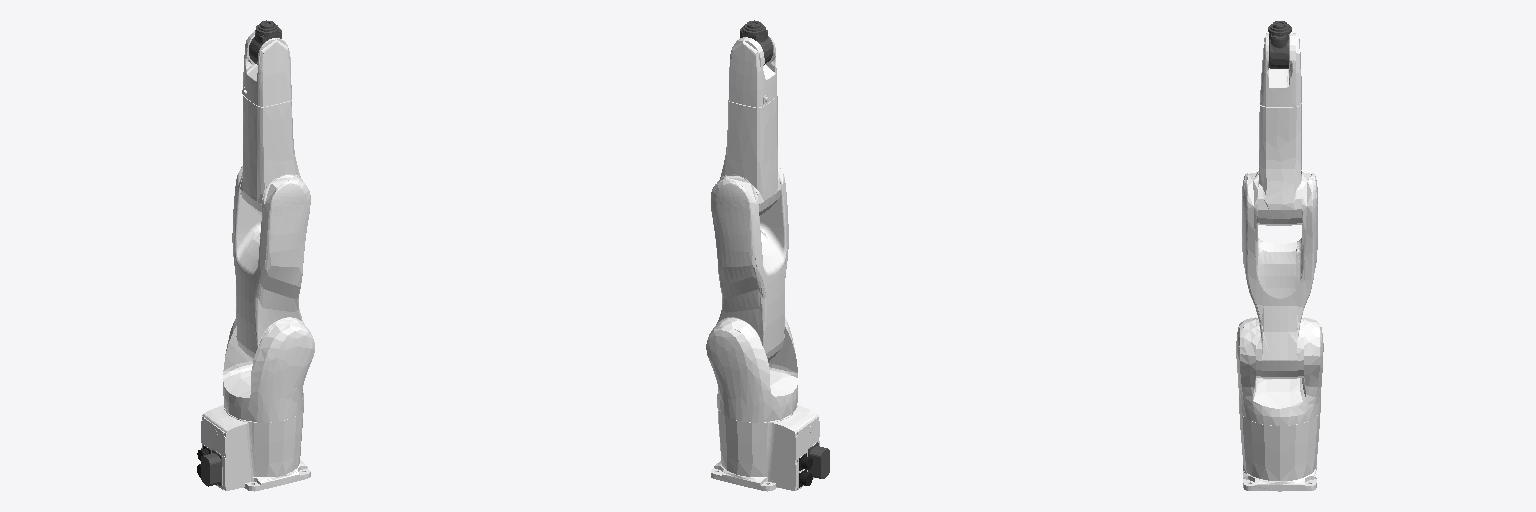
The robot description file, URDF, robot "vs087":
<?xml version="1.0" encoding="UTF-8"?>
<robot name="vs087">
	<gazebo>
		<plugin name="gazebo_ros_control" filename="libgazebo_ros_control.so">
			<robotNamespace>/vs087</robotNamespace>
		</plugin>
	</gazebo>
	<link name="world" />
	<joint name="joint_w" type="fixed">
		<parent link="world" />
		<child link="base_link" />
	</joint>
	<link name="base_link">
		<visual>
			<origin rpy="0 0 0" xyz="0 0 0" />
			<geometry>
				<mesh filename="package://denso_robot_descriptions/vs087_description/base_link.dae" scale="1 1 1" />
			</geometry>
		</visual>
		<collision>
			<origin rpy="0 0 0" xyz="0 0 0" />
			<geometry>
				<mesh filename="package://denso_robot_descriptions/vs087_description/base_link.dae" scale="1 1 1" />
			</geometry>
		</collision>
		<inertial>
			<mass value="1" />
			<origin rpy="0.000000 0.000000 0.000000" xyz="0.000000 0.000000 0.000000" />
			<inertia ixx="1" ixy="0" ixz="0" iyy="1" iyz="0" izz="1" />
		</inertial>
	</link>
	<link name="J1">
		<visual>
			<origin rpy="0 0 0" xyz="0 0 0" />
			<geometry>
				<mesh filename="package://denso_robot_descriptions/vs087_description/J1.dae" scale="1 1 1" />
			</geometry>
		</visual>
		<collision>
			<origin rpy="0 0 0" xyz="0 0 0" />
			<geometry>
				<mesh filename="package://denso_robot_descriptions/vs087_description/J1.dae" scale="1 1 1" />
			</geometry>
		</collision>
		<inertial>
			<mass value="1" />
			<origin rpy="0.000000 0.000000 0.000000" xyz="0.000000 0.000000 0.000000" />
			<inertia ixx="1" ixy="0" ixz="0" iyy="1" iyz="0" izz="1" />
		</inertial>
	</link>
	<joint name="joint_1" type="revolute">
		<parent link="base_link" />
		<child link="J1" />
		<origin rpy="0.000000 0.000000 0.000000" xyz="0.000000 0.000000 0.197500" />
		<axis xyz="-0.000000 -0.000000 1.000000" />
		<limit effort="1" lower="-2.96705972839036" upper="2.96705972839036" velocity="1" />
		<dynamics damping="0" friction="0" />
	</joint>
	<transmission name="trans_1">
		<type>transmission_interface/SimpleTransmission</type>
		<joint name="joint_1">
			<hardwareInterface>hardware_interface/PositionJointInterface</hardwareInterface>
		</joint>
		<actuator name="motor_1">
			<hardwareInterface>hardware_interface/PositionJointInterface</hardwareInterface>
			<mechanicalReduction>1</mechanicalReduction>
		</actuator>
	</transmission>
	<link name="J2">
		<visual>
			<origin rpy="0 0 0" xyz="0 0 0" />
			<geometry>
				<mesh filename="package://denso_robot_descriptions/vs087_description/J2.dae" scale="1 1 1" />
			</geometry>
		</visual>
		<collision>
			<origin rpy="0 0 0" xyz="0 0 0" />
			<geometry>
				<mesh filename="package://denso_robot_descriptions/vs087_description/J2.dae" scale="1 1 1" />
			</geometry>
		</collision>
		<inertial>
			<mass value="1" />
			<origin rpy="0.000000 0.000000 0.000000" xyz="0.000000 0.000000 0.000000" />
			<inertia ixx="1" ixy="0" ixz="0" iyy="1" iyz="0" izz="1" />
		</inertial>
	</link>
	<joint name="joint_2" type="revolute">
		<parent link="J1" />
		<child link="J2" />
		<origin rpy="0.000000 0.000000 0.000000" xyz="0.030000 0.000000 0.197500" />
		<axis xyz="-0.000000 1.000000 -0.000000" />
		<limit effort="1" lower="-1.74532925199433" upper="2.35619449019234" velocity="1" />
		<dynamics damping="0" friction="0" />
	</joint>
	<transmission name="trans_2">
		<type>transmission_interface/SimpleTransmission</type>
		<joint name="joint_2">
			<hardwareInterface>hardware_interface/PositionJointInterface</hardwareInterface>
		</joint>
		<actuator name="motor_2">
			<hardwareInterface>hardware_interface/PositionJointInterface</hardwareInterface>
			<mechanicalReduction>1</mechanicalReduction>
		</actuator>
	</transmission>
	<link name="J3">
		<visual>
			<origin rpy="0 0 0" xyz="0 0 0" />
			<geometry>
				<mesh filename="package://denso_robot_descriptions/vs087_description/J3.dae" scale="1 1 1" />
			</geometry>
		</visual>
		<collision>
			<origin rpy="0 0 0" xyz="0 0 0" />
			<geometry>
				<mesh filename="package://denso_robot_descriptions/vs087_description/J3.dae" scale="1 1 1" />
			</geometry>
		</collision>
		<inertial>
			<mass value="1" />
			<origin rpy="0.000000 0.000000 0.000000" xyz="0.000000 0.000000 0.000000" />
			<inertia ixx="1" ixy="0" ixz="0" iyy="1" iyz="0" izz="1" />
		</inertial>
	</link>
	<joint name="joint_3" type="revolute">
		<parent link="J2" />
		<child link="J3" />
		<origin rpy="0.000000 0.000000 0.000000" xyz="0.000000 0.000000 0.445000" />
		<axis xyz="-0.000000 1.000000 -0.000000" />
		<limit effort="1" lower="-2.37364778271229" upper="2.67035375555132" velocity="1" />
		<dynamics damping="0" friction="0" />
	</joint>
	<transmission name="trans_3">
		<type>transmission_interface/SimpleTransmission</type>
		<joint name="joint_3">
			<hardwareInterface>hardware_interface/PositionJointInterface</hardwareInterface>
		</joint>
		<actuator name="motor_3">
			<hardwareInterface>hardware_interface/PositionJointInterface</hardwareInterface>
			<mechanicalReduction>1</mechanicalReduction>
		</actuator>
	</transmission>
	<link name="J4">
		<visual>
			<origin rpy="0 0 0" xyz="0 0 0" />
			<geometry>
				<mesh filename="package://denso_robot_descriptions/vs087_description/J4.dae" scale="1 1 1" />
			</geometry>
		</visual>
		<collision>
			<origin rpy="0 0 0" xyz="0 0 0" />
			<geometry>
				<mesh filename="package://denso_robot_descriptions/vs087_description/J4.dae" scale="1 1 1" />
			</geometry>
		</collision>
		<inertial>
			<mass value="1" />
			<origin rpy="0.000000 0.000000 0.000000" xyz="0.000000 0.000000 0.000000" />
			<inertia ixx="1" ixy="0" ixz="0" iyy="1" iyz="0" izz="1" />
		</inertial>
	</link>
	<joint name="joint_4" type="revolute">
		<parent link="J3" />
		<child link="J4" />
		<origin rpy="0.000000 0.000000 0.000000" xyz="-0.020000 0.000000 0.287000" />
		<axis xyz="-0.000000 -0.000000 1.000000" />
		<limit effort="1" lower="-4.71238898038469" upper="4.71238898038469" velocity="1" />
		<dynamics damping="0" friction="0" />
	</joint>
	<transmission name="trans_4">
		<type>transmission_interface/SimpleTransmission</type>
		<joint name="joint_4">
			<hardwareInterface>hardware_interface/PositionJointInterface</hardwareInterface>
		</joint>
		<actuator name="motor_4">
			<hardwareInterface>hardware_interface/PositionJointInterface</hardwareInterface>
			<mechanicalReduction>1</mechanicalReduction>
		</actuator>
	</transmission>
	<link name="J5">
		<visual>
			<origin rpy="0 0 0" xyz="0 0 0" />
			<geometry>
				<mesh filename="package://denso_robot_descriptions/vs087_description/J5.dae" scale="1 1 1" />
			</geometry>
		</visual>
		<collision>
			<origin rpy="0 0 0" xyz="0 0 0" />
			<geometry>
				<mesh filename="package://denso_robot_descriptions/vs087_description/J5.dae" scale="1 1 1" />
			</geometry>
		</collision>
		<inertial>
			<mass value="1" />
			<origin rpy="0.000000 0.000000 0.000000" xyz="0.000000 0.000000 0.000000" />
			<inertia ixx="1" ixy="0" ixz="0" iyy="1" iyz="0" izz="1" />
		</inertial>
	</link>
	<joint name="joint_5" type="revolute">
		<parent link="J4" />
		<child link="J5" />
		<origin rpy="0.000000 0.000000 0.000000" xyz="0.000000 0.000000 0.143000" />
		<axis xyz="-0.000000 1.000000 -0.000000" />
		<limit effort="1" lower="-2.0943951023932" upper="2.0943951023932" velocity="1" />
		<dynamics damping="0" friction="0" />
	</joint>
	<transmission name="trans_5">
		<type>transmission_interface/SimpleTransmission</type>
		<joint name="joint_5">
			<hardwareInterface>hardware_interface/PositionJointInterface</hardwareInterface>
		</joint>
		<actuator name="motor_5">
			<hardwareInterface>hardware_interface/PositionJointInterface</hardwareInterface>
			<mechanicalReduction>1</mechanicalReduction>
		</actuator>
	</transmission>
	<link name="J6">
		<visual>
			<origin rpy="0 0 0" xyz="0 0 0" />
			<geometry>
				<mesh filename="package://denso_robot_descriptions/vs087_description/J6.dae" scale="1 1 1" />
			</geometry>
		</visual>
		<collision>
			<origin rpy="0 0 0" xyz="0 0 0" />
			<geometry>
				<mesh filename="package://denso_robot_descriptions/vs087_description/J6.dae" scale="1 1 1" />
			</geometry>
		</collision>
		<inertial>
			<mass value="1" />
			<origin rpy="0.000000 0.000000 0.000000" xyz="0.000000 0.000000 0.000000" />
			<inertia ixx="1" ixy="0" ixz="0" iyy="1" iyz="0" izz="1" />
		</inertial>
	</link>
	<joint name="joint_6" type="revolute">
		<parent link="J5" />
		<child link="J6" />
		<origin rpy="0.000000 0.000000 0.000000" xyz="0.000000 0.000000 0.080000" />
		<axis xyz="-0.000000 -0.000000 1.000000" />
		<limit effort="1" lower="-6.28318530717959" upper="6.28318530717959" velocity="1" />
		<dynamics damping="0" friction="0" />
	</joint>
	<transmission name="trans_6">
		<type>transmission_interface/SimpleTransmission</type>
		<joint name="joint_6">
			<hardwareInterface>hardware_interface/PositionJointInterface</hardwareInterface>
		</joint>
		<actuator name="motor_6">
			<hardwareInterface>hardware_interface/PositionJointInterface</hardwareInterface>
			<mechanicalReduction>1</mechanicalReduction>
		</actuator>
	</transmission>
</robot>

--- Render facts (derived) ---
Views: 3 orthographic renders of the robot side by side, from view 1: azimuth 30°, elevation 25°; view 2: azimuth 150°, elevation 25°; view 3: azimuth 270°, elevation 25°.
Robot: vs087 — 8 links, 7 joints (6 revolute, 1 fixed); root link world; default pose: all joints at 0.
Visible links, largest first — view 1: J2, base_link, J1, J3, J4, J5; view 2: J2, base_link, J1, J3, J4, J5; view 3: J2, J1, base_link, J3, J4, J5.
Boxes of the visible links, <box> form: J2: <box>232,166,310,361</box>; base_link: <box>197,405,310,491</box>; J1: <box>223,319,314,422</box>; J3: <box>240,95,302,215</box>; J4: <box>242,31,291,106</box>; J5: <box>249,24,281,64</box>; J2: <box>711,166,788,361</box>; base_link: <box>711,405,829,491</box>; J1: <box>706,318,797,422</box>; J3: <box>720,96,780,215</box>; J4: <box>729,34,776,107</box>; J5: <box>740,23,772,64</box>; J2: <box>1242,172,1317,378</box>; J1: <box>1236,317,1323,425</box>; base_link: <box>1239,410,1320,491</box>; J3: <box>1258,103,1301,225</box>; J4: <box>1260,33,1301,106</box>; J5: <box>1268,24,1291,68</box>.
Size in the robot's own frame: 0.3155 by 0.2349 by 1.35 metres.
Meshes: 7 distinct files referenced, 7 mesh visuals loaded (7 Collada DAE).
